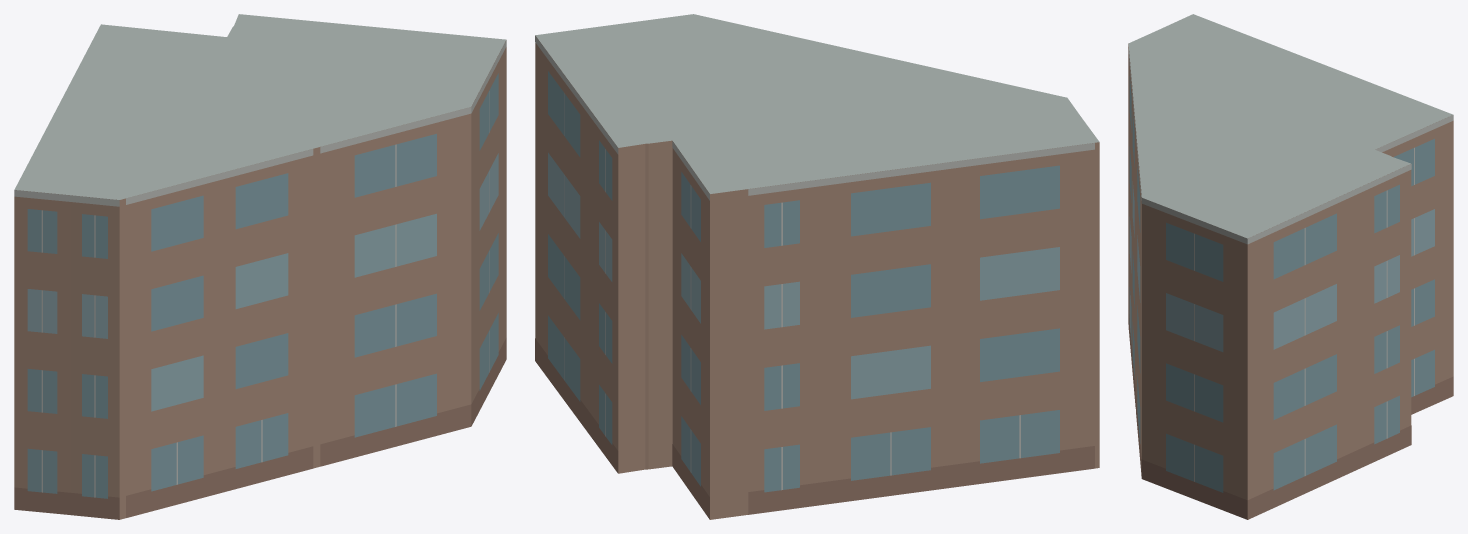
The model's file is survey-upis-32931814.glb.
The picture shows the model from 3 angles, left to right: view 1: azimuth 30°, elevation 25°; view 2: azimuth 150°, elevation 25°; view 3: azimuth 270°, elevation 25°; orthographic projection. The views are drawn at different scales.
Visible parts, largest first — view 1: survey-upis-32931814.tmp; view 2: survey-upis-32931814.tmp; view 3: survey-upis-32931814.tmp.
Part boxes in pixels (bbox=[...]): survey-upis-32931814.tmp: bbox=[14, 14, 506, 519]; survey-upis-32931814.tmp: bbox=[535, 14, 1099, 519]; survey-upis-32931814.tmp: bbox=[1128, 14, 1453, 519].
Bounding box in the file's own units: 19.86 × 11.6 × 12.15.
